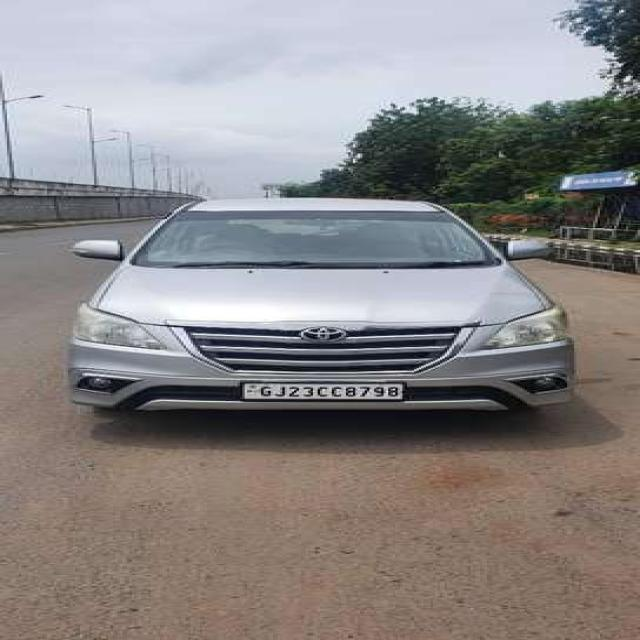licenseplate: (235, 380, 407, 401)
